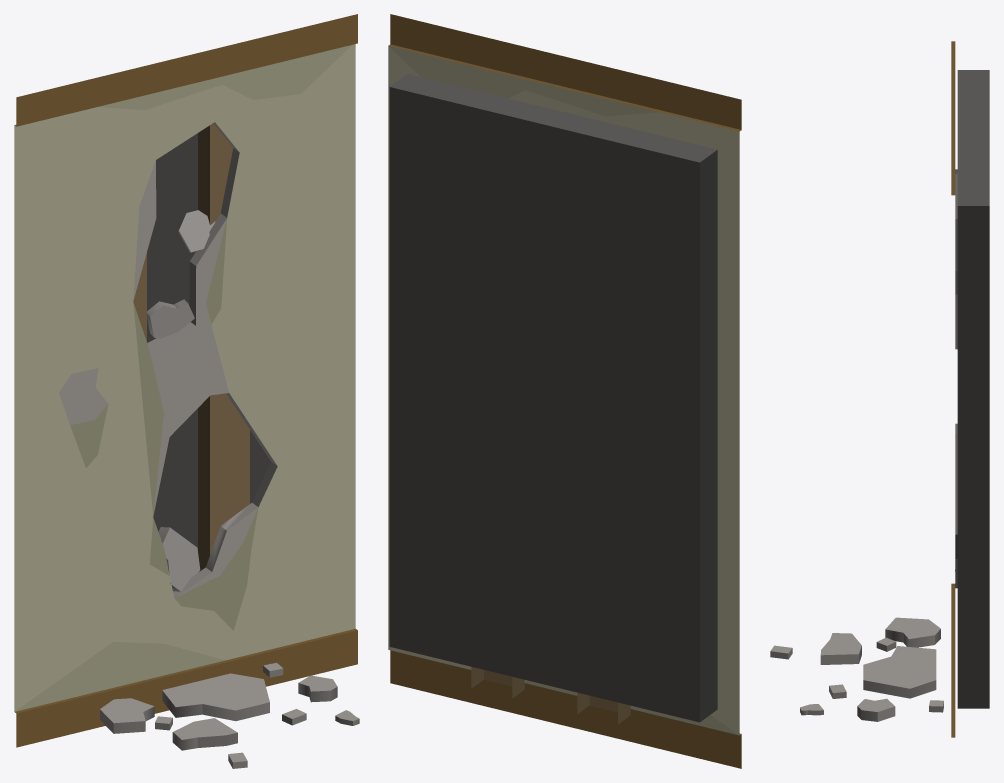
File: AI_Env_Wall_Church_Hole.fbx
3 views of the same model, side by side, from view 1: azimuth 30°, elevation 25°; view 2: azimuth 150°, elevation 25°; view 3: azimuth 270°, elevation 25° (orthographic). The views are drawn at different scales.
Visible parts, largest first — view 1: AI_Env_Wall_Church_Hole; view 2: AI_Env_Wall_Church_Hole; view 3: AI_Env_Wall_Church_Hole.
Part boxes in pixels (left/top/right/bottom): AI_Env_Wall_Church_Hole: left=14, top=14, right=359, bottom=768; AI_Env_Wall_Church_Hole: left=388, top=14, right=741, bottom=768; AI_Env_Wall_Church_Hole: left=770, top=41, right=989, bottom=737.
Size of the model in its own units: 5 by 9.1 by 3.01.
